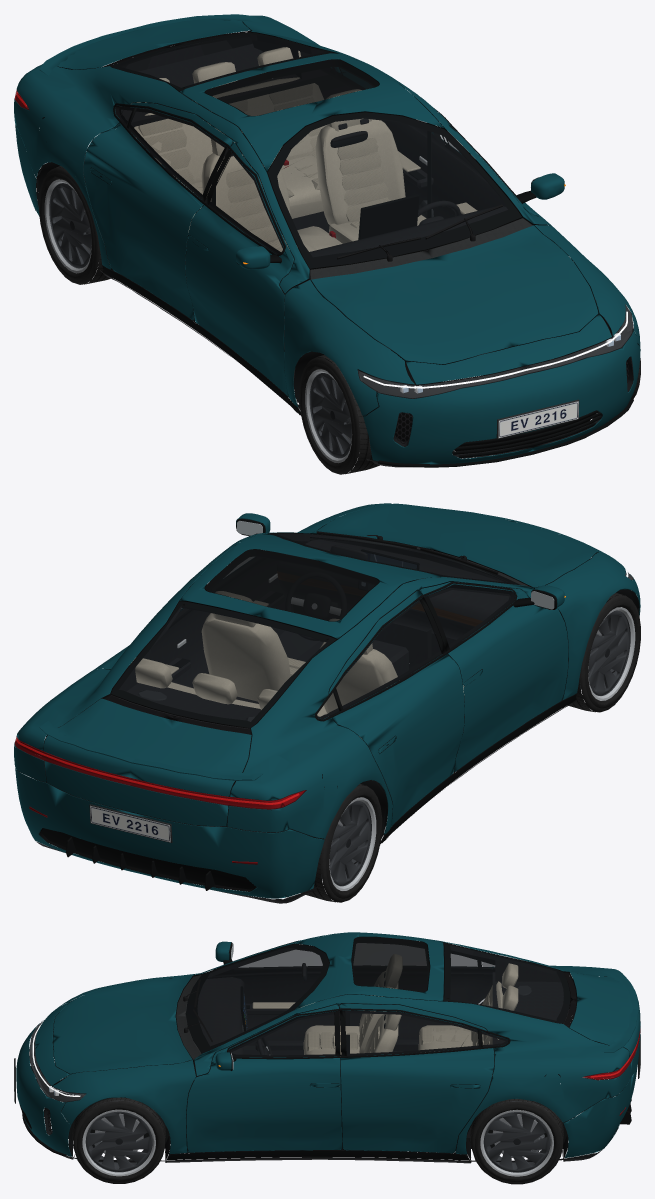
3 views of the same model, one above another, from view 1: azimuth 30°, elevation 25°; view 2: azimuth 150°, elevation 25°; view 3: azimuth 270°, elevation 25° (orthographic). The views are drawn at different scales.
Parts seen in each view (by area): view 1: Body, Wheel_FR, Wheel_RR; view 2: Body, Wheel_RR, Wheel_FR, Steering_Wheel; view 3: Body, Wheel_FL, Wheel_RL.
Part boxes in pixels (x1,y1,x2,y2): Body: [14, 14, 640, 467]; Wheel_FR: [299, 354, 379, 474]; Wheel_RR: [39, 166, 110, 284]; Body: [14, 503, 640, 903]; Wheel_RR: [301, 784, 382, 902]; Wheel_FR: [561, 593, 640, 712]; Steering_Wheel: [286, 572, 346, 640]; Body: [14, 932, 640, 1163]; Wheel_FL: [72, 1097, 165, 1183]; Wheel_RL: [470, 1098, 563, 1184].
Size of the model in its own units: 2.1 by 1.4 by 4.6.
58 materials, 12 textured.
